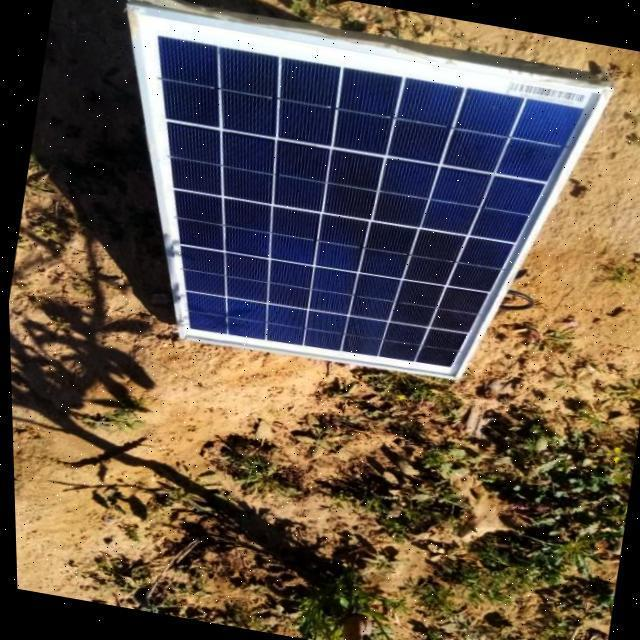Normal Solar Panel: (73, 1, 619, 404)
